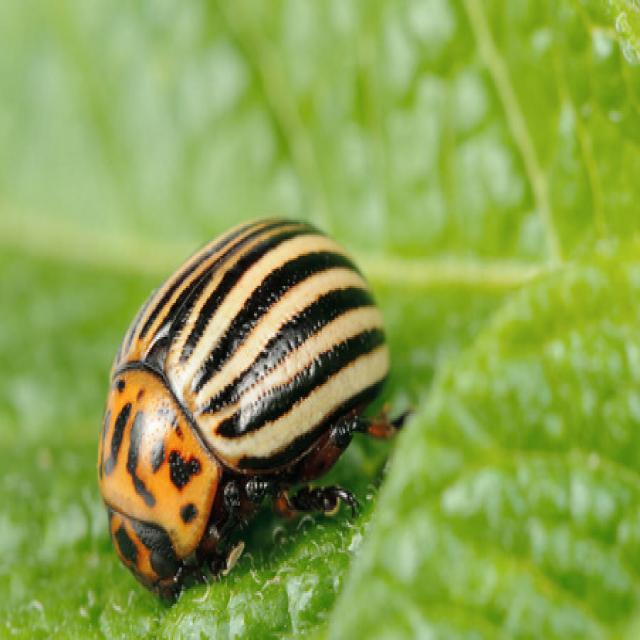ShuCaiHuaBanChong-Grown-: (109, 209, 422, 584)
